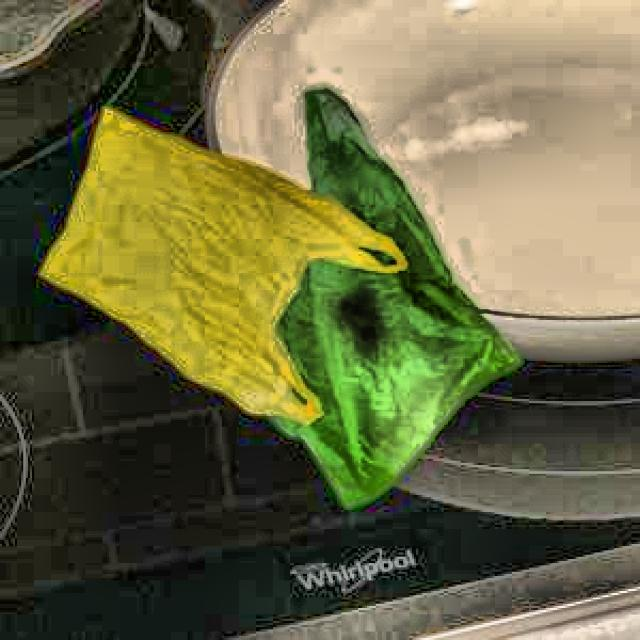Plastic: (197, 66, 528, 516), (18, 94, 406, 432)
